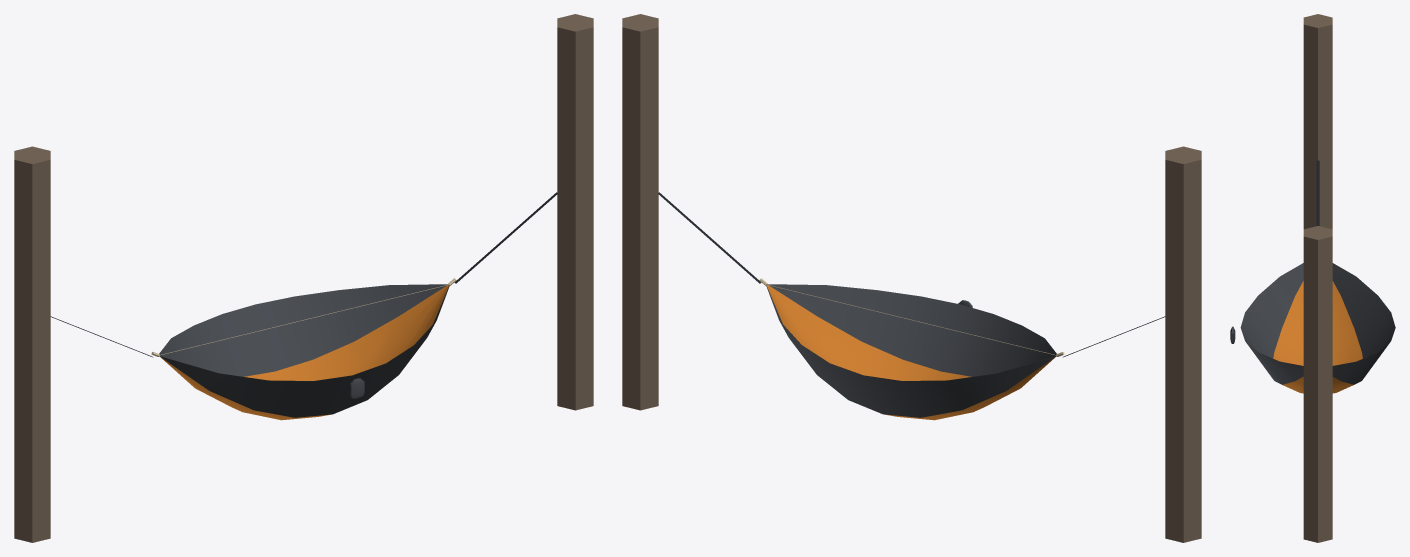
The model's file is hammock_camping.far.glb.
3 views of the same model, side by side, from view 1: azimuth 30°, elevation 25°; view 2: azimuth 150°, elevation 25°; view 3: azimuth 270°, elevation 25° (orthographic). The views are drawn at different scales.
Parts seen in each view (by area): view 1: hammock_camping, bed_hammock_camping; view 2: hammock_camping, bed_hammock_camping; view 3: hammock_camping, bed_hammock_camping.
Part boxes in pixels (bbox=[...]): hammock_camping: bbox=[14, 14, 593, 542]; bed_hammock_camping: bbox=[50, 192, 557, 420]; hammock_camping: bbox=[622, 14, 1201, 542]; bed_hammock_camping: bbox=[658, 192, 1165, 420]; hammock_camping: bbox=[1303, 14, 1332, 542]; bed_hammock_camping: bbox=[1230, 160, 1395, 393].
Bounding box in the file's own units: 4.8 × 3 × 1.48.
